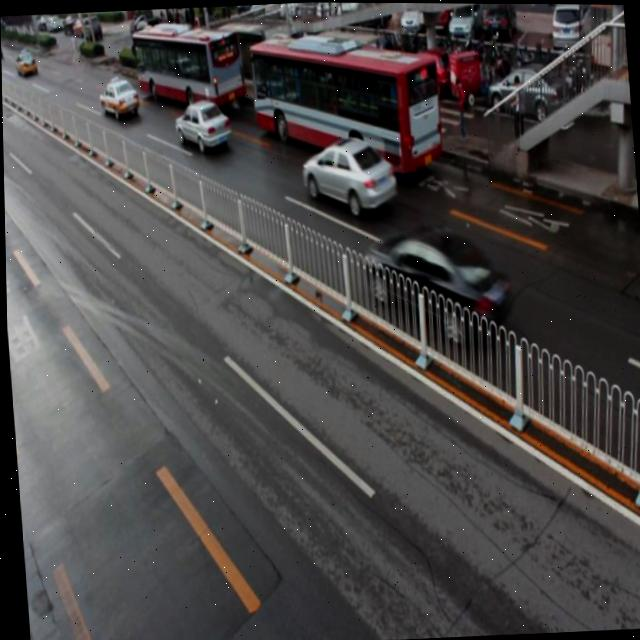car: (361, 221, 508, 345), (298, 134, 397, 216), (172, 96, 232, 152), (97, 76, 139, 123)
van: (248, 28, 442, 181), (131, 19, 246, 118)
